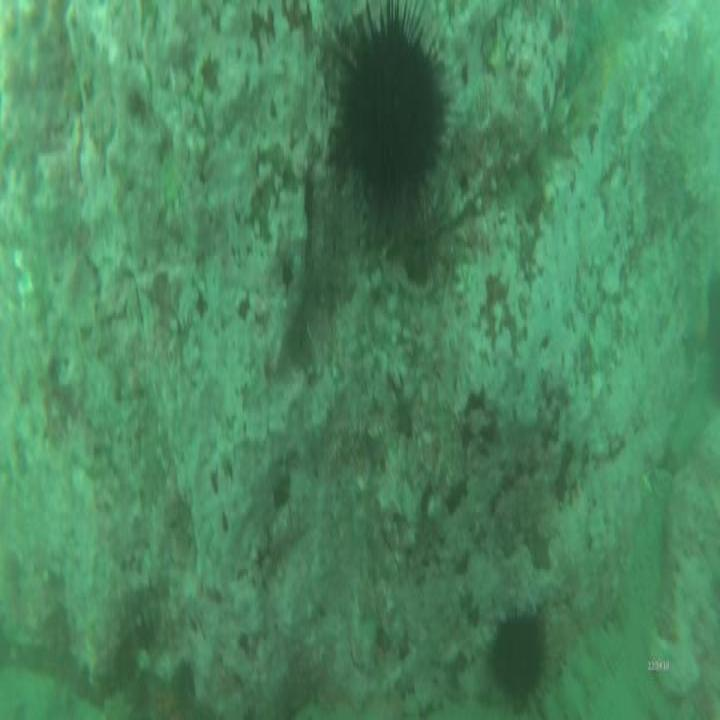echinus: (349, 21, 441, 192), (492, 614, 544, 708)
